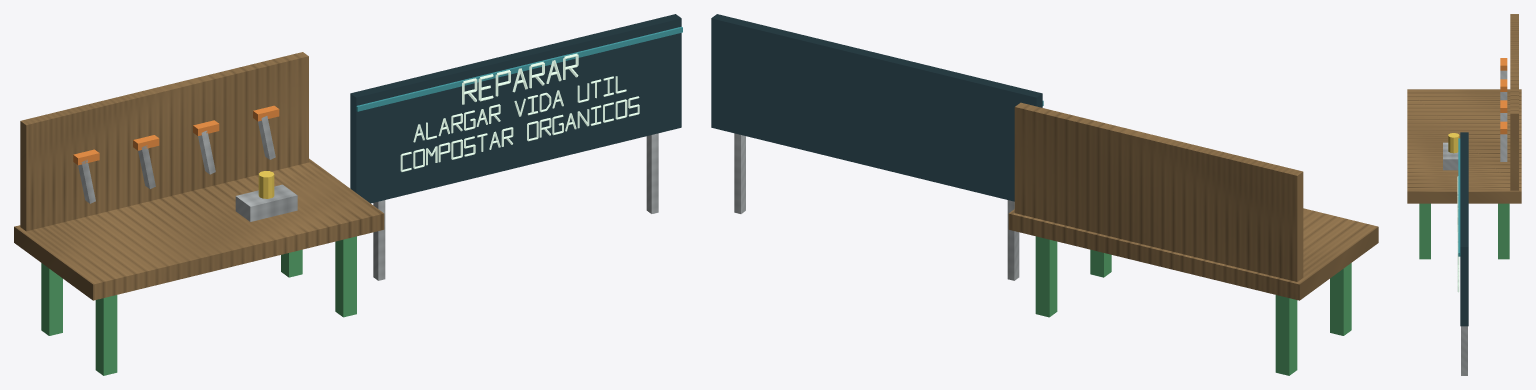
The model's file is CYCLE-023.glb.
3 renders of one model, left to right at view 1: azimuth 30°, elevation 25°; view 2: azimuth 150°, elevation 25°; view 3: azimuth 270°, elevation 25°, orthographic. The views are drawn at different scales.
Parts seen in each view (by area): view 1: CYCLE-023; view 2: CYCLE-023; view 3: CYCLE-023.
Part boxes in pixels (x1,y1,x2,y2): CYCLE-023: [14, 14, 682, 375]; CYCLE-023: [711, 14, 1378, 375]; CYCLE-023: [1407, 14, 1521, 375].
Size of the model in its own units: 7.3 by 2.33 by 1.6.
Materials: 8 (2 with a texture image).
